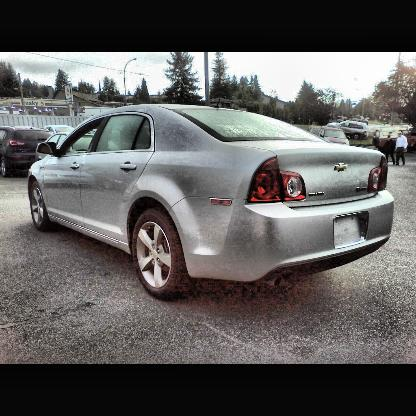Chevrolet Malibu Hybrid Sedan 2010: (26, 100, 396, 300)
